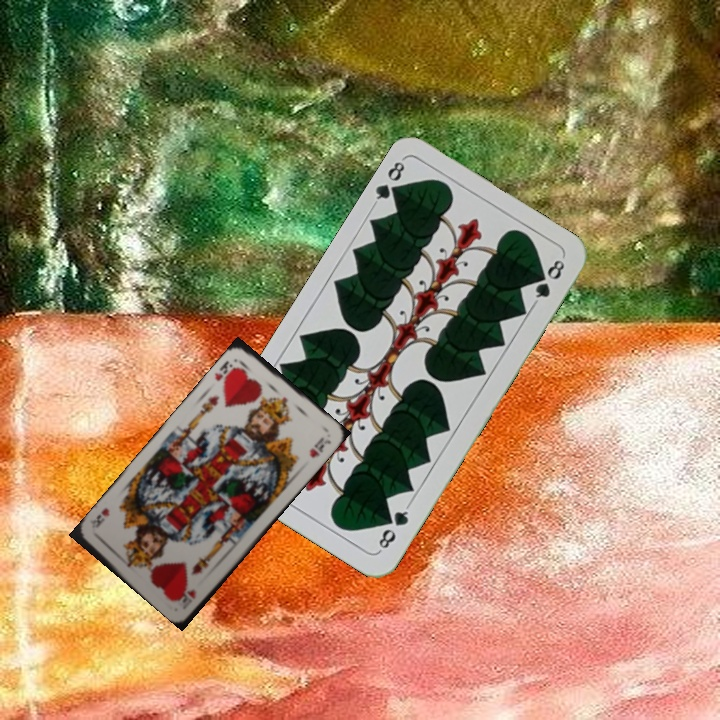G8: (369, 155, 408, 208), (374, 501, 412, 554)
HK: (210, 356, 240, 390), (178, 585, 198, 611)
